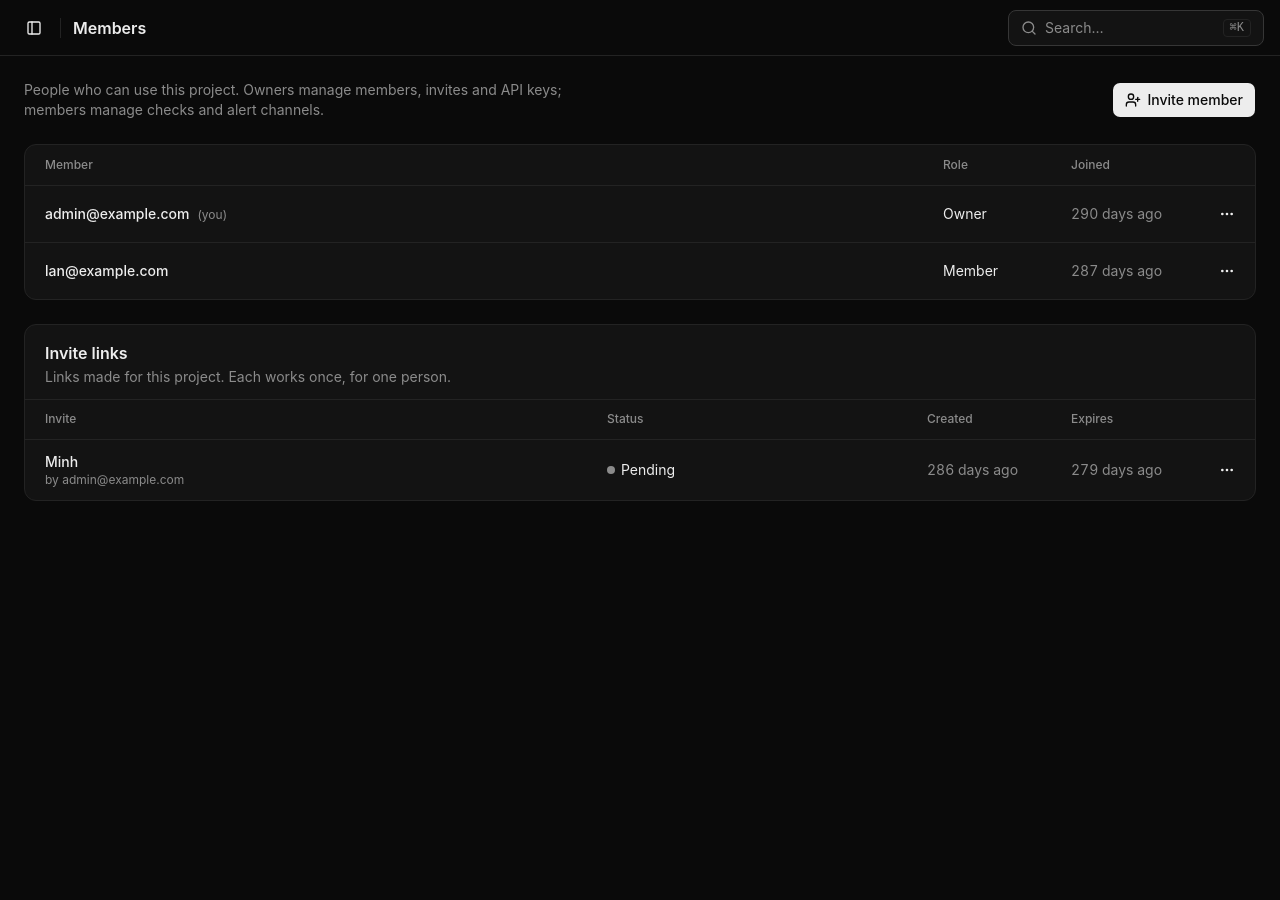
Test: members page › lets an owner invite a member and shows the link once
The image size is (1280, 900).
Expected: the heading "Members" is shown, [73, 18, 146, 38]
Expected: the text "Member" is shown, [927, 242, 1055, 298]
Click the button "Invite member" at (1184, 100), box [1112, 82, 1256, 118]
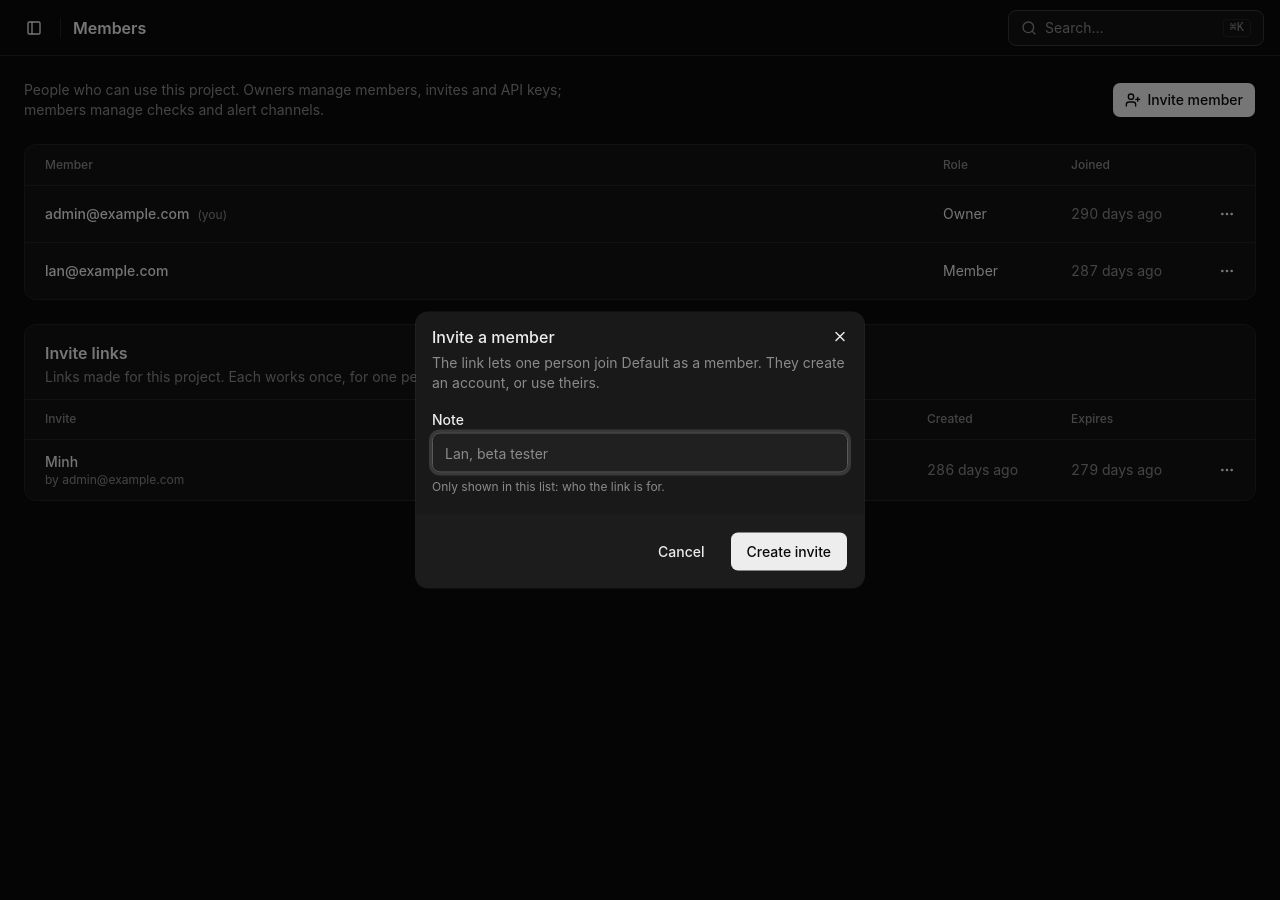
Now the text "join Default as a member" is shown, box [432, 354, 845, 390]
Type "Hoa" into the field labelled "Note" at (640, 452), box [432, 432, 848, 472]
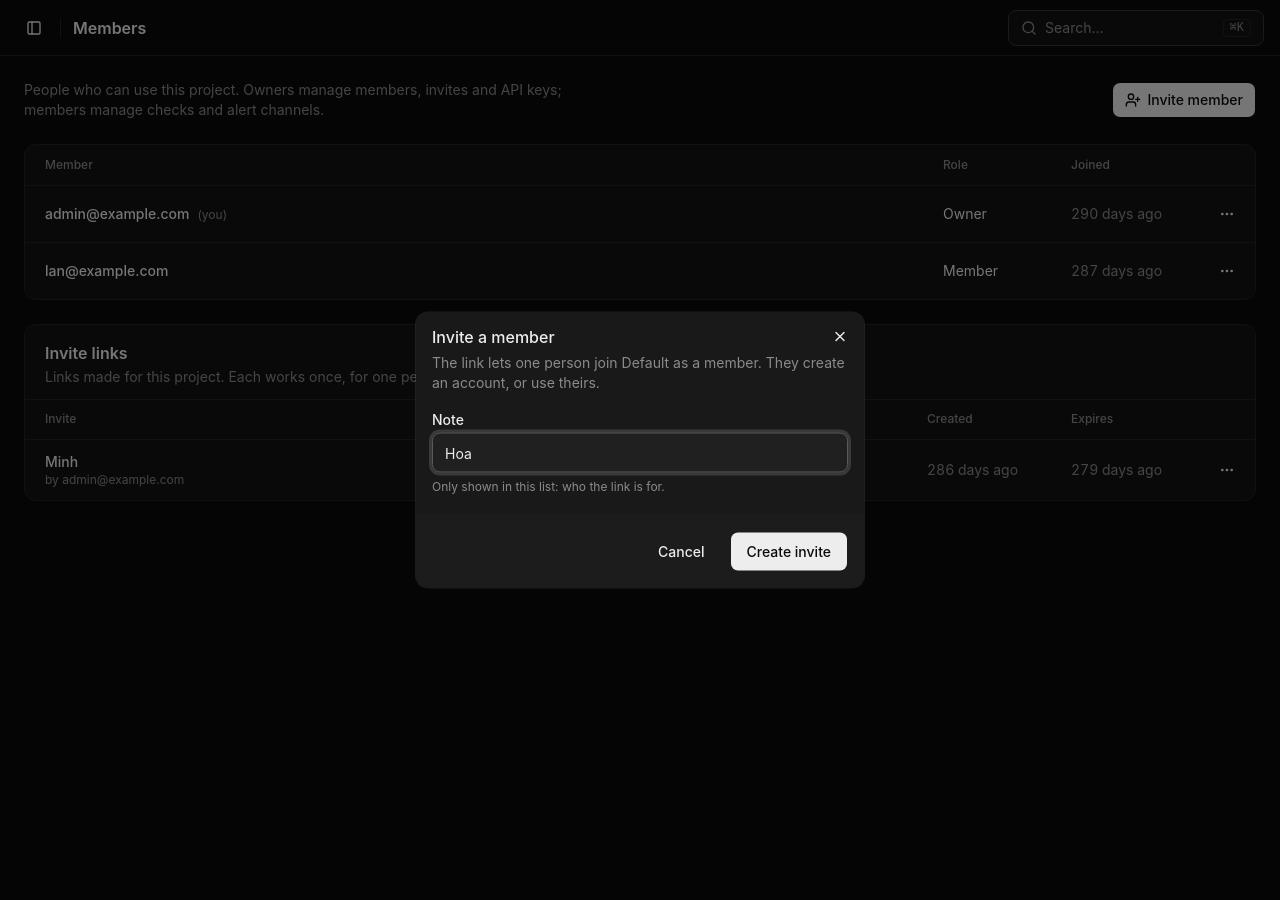
Click the button "Create invite" at (789, 552), box [730, 532, 848, 572]
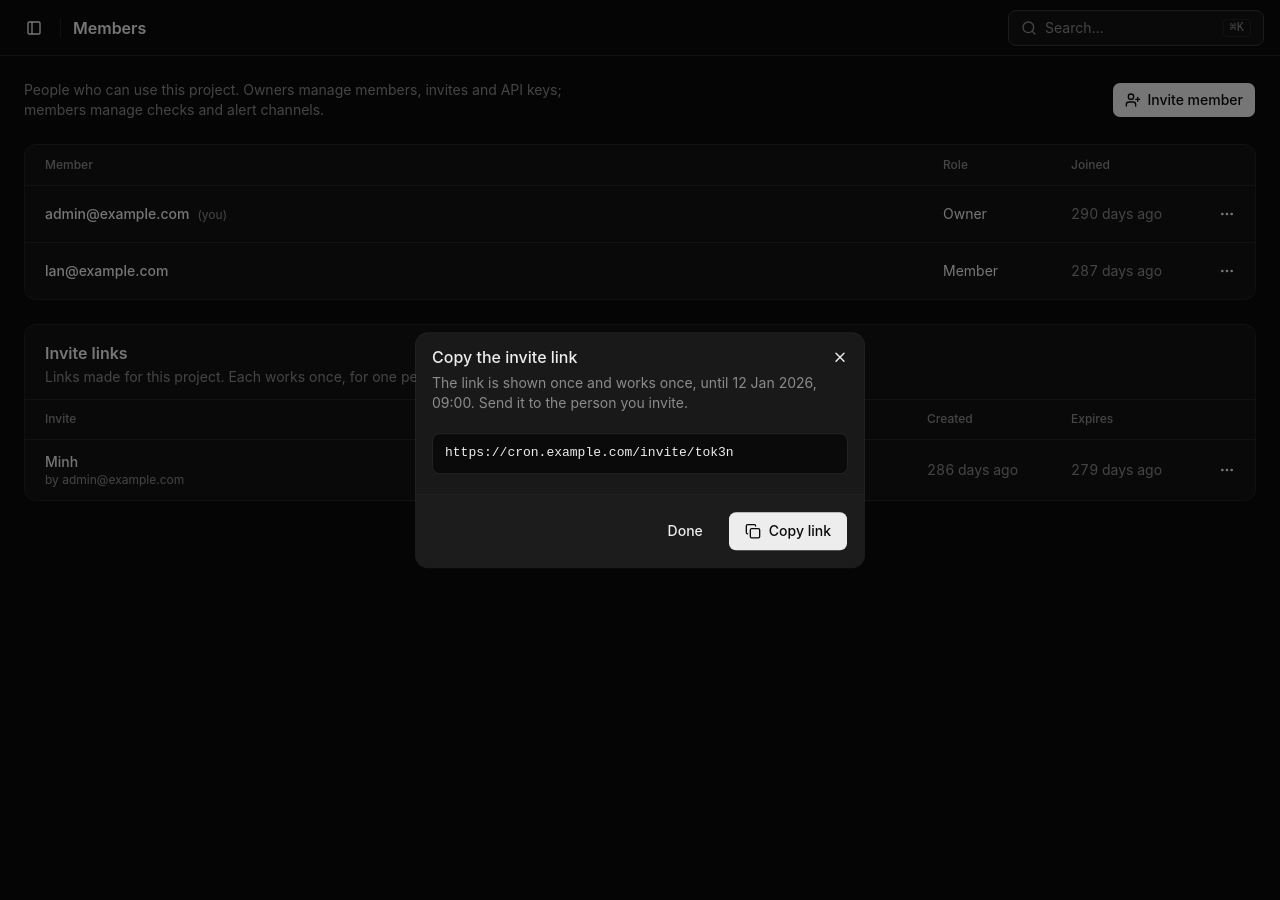
Now the text "https://cron.example.com/invite/tok3n" is shown, box [432, 433, 848, 474]
Now the button "Copy link" is shown, box [728, 511, 848, 551]
